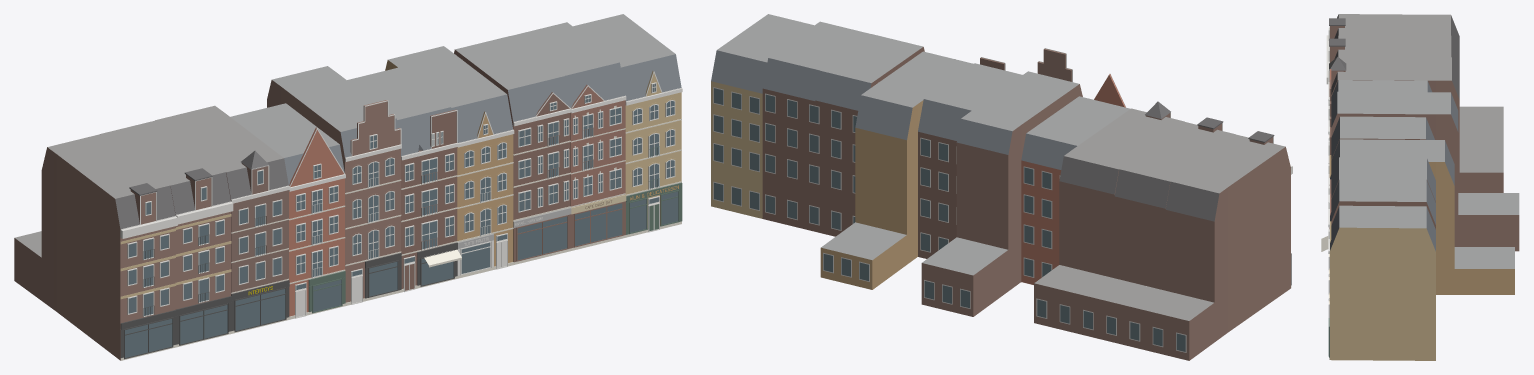
Rendered from chunk-face-bilder-236022-167243.glb.
3 renders of one model, left to right at view 1: azimuth 30°, elevation 25°; view 2: azimuth 150°, elevation 25°; view 3: azimuth 270°, elevation 25°, orthographic. The views are drawn at different scales.
Visible parts, largest first — view 1: face-bilder-236022-167243; view 2: face-bilder-236022-167243; view 3: face-bilder-236022-167243.
Part boxes in pixels (left/top/right/bottom): face-bilder-236022-167243: left=14, top=14, right=682, bottom=360; face-bilder-236022-167243: left=711, top=14, right=1292, bottom=360; face-bilder-236022-167243: left=1321, top=14, right=1519, bottom=360.
Size of the model in its own units: 59.44 by 19.7 by 22.62.
